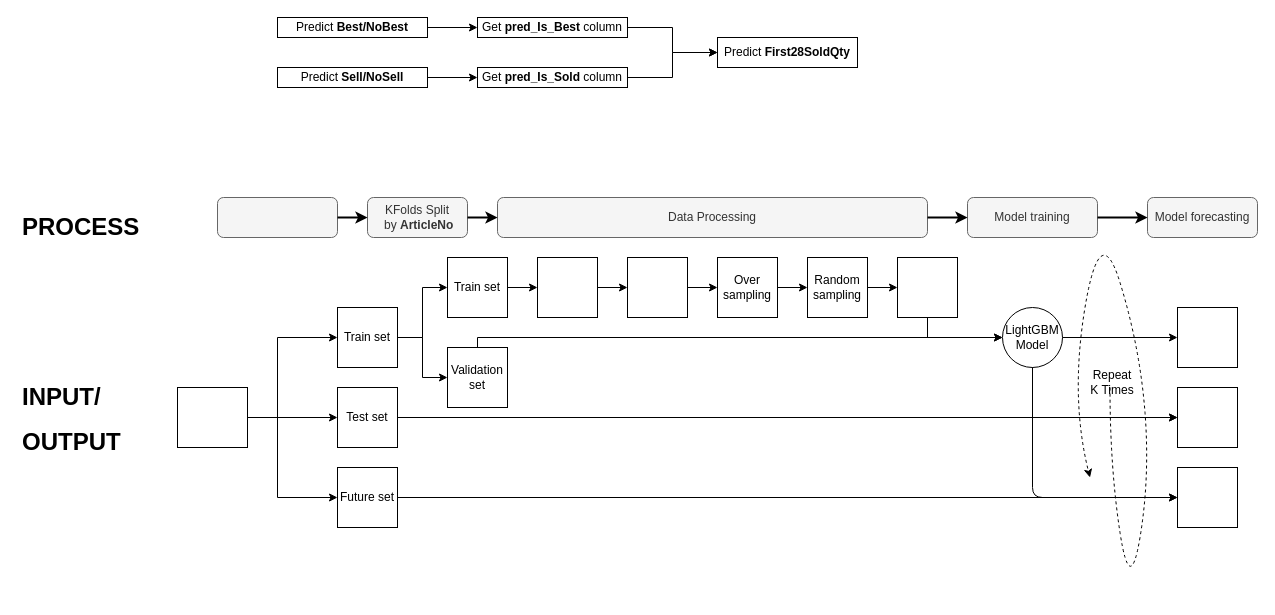
This 1275x615 diagram has some shape labels left out. Here are the shapes that lost their labels. From the top down, the centre of each, then its label:
At pixel 277 217: "Data Partitioning by Date Launched".
At pixel 567 287: "Get dummies".
At pixel 657 287: "Impute missing variables".
At pixel 927 287: "Format data back to original columns".
At pixel 1207 337: "oof (w/ train rmse)".
At pixel 212 417: "Dataset".
At pixel 1207 417: "predictions (w/ test rmse)".
At pixel 1207 497: "forecasts".
